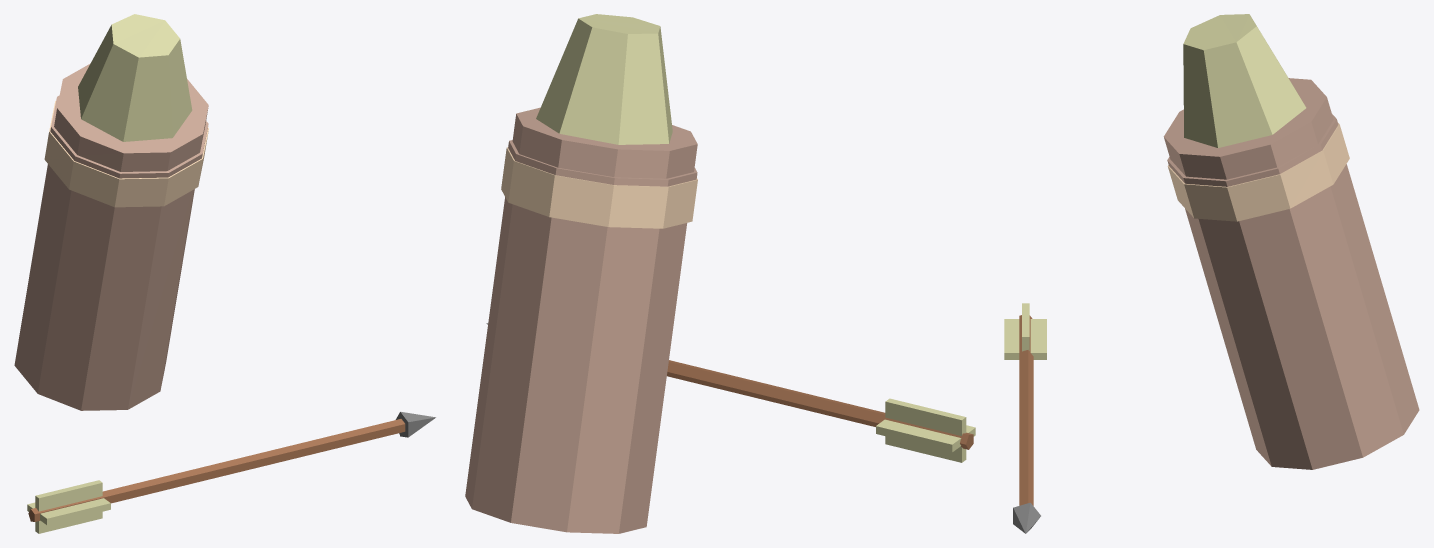
Rendered from ce_ammo2_arrow_stone_c.obj.
3 renders of one model, left to right at view 1: azimuth 30°, elevation 25°; view 2: azimuth 150°, elevation 25°; view 3: azimuth 270°, elevation 25°, orthographic. The views are drawn at different scales.
Parts seen in each view (by area): view 1: ce_ammo2_arrow_stone_c_0, ce_ammo2_arrow_stone_c_2, ce_ammo2_arrow_stone_c_1, ce_ammo2_arrow_stone_c_3, ce_ammo2_arrow_stone_c_6, ce_ammo2_arrow_stone_c_5, ce_ammo2_arrow_stone_c_4; view 2: ce_ammo2_arrow_stone_c_0, ce_ammo2_arrow_stone_c_2, ce_ammo2_arrow_stone_c_1, ce_ammo2_arrow_stone_c_3, ce_ammo2_arrow_stone_c_6, ce_ammo2_arrow_stone_c_5; view 3: ce_ammo2_arrow_stone_c_0, ce_ammo2_arrow_stone_c_2, ce_ammo2_arrow_stone_c_1, ce_ammo2_arrow_stone_c_3, ce_ammo2_arrow_stone_c_5, ce_ammo2_arrow_stone_c_4.
Part boxes in pixels (x1=…): ce_ammo2_arrow_stone_c_0: x1=14, y1=63, x2=208, y2=410; ce_ammo2_arrow_stone_c_2: x1=78, y1=14, x2=192, y2=141; ce_ammo2_arrow_stone_c_1: x1=44, y1=101, x2=208, y2=207; ce_ammo2_arrow_stone_c_3: x1=28, y1=419, x2=405, y2=521; ce_ammo2_arrow_stone_c_6: x1=35, y1=480, x2=102, y2=533; ce_ammo2_arrow_stone_c_5: x1=27, y1=498, x2=110, y2=525; ce_ammo2_arrow_stone_c_4: x1=395, y1=411, x2=435, y2=437; ce_ammo2_arrow_stone_c_0: x1=465, y1=107, x2=697, y2=533; ce_ammo2_arrow_stone_c_2: x1=536, y1=14, x2=672, y2=144; ce_ammo2_arrow_stone_c_1: x1=501, y1=147, x2=697, y2=228; ce_ammo2_arrow_stone_c_3: x1=667, y1=360, x2=973, y2=449; ce_ammo2_arrow_stone_c_6: x1=885, y1=398, x2=966, y2=462; ce_ammo2_arrow_stone_c_5: x1=876, y1=419, x2=975, y2=452; ce_ammo2_arrow_stone_c_0: x1=1163, y1=78, x2=1419, y2=469; ce_ammo2_arrow_stone_c_2: x1=1183, y1=14, x2=1306, y2=147; ce_ammo2_arrow_stone_c_1: x1=1167, y1=123, x2=1349, y2=221; ce_ammo2_arrow_stone_c_3: x1=1019, y1=315, x2=1033, y2=505; ce_ammo2_arrow_stone_c_5: x1=1004, y1=319, x2=1046, y2=359; ce_ammo2_arrow_stone_c_4: x1=1013, y1=502, x2=1040, y2=533.
Bounding box in the file's own units: 0.779 × 0.7249 × 0.6384.
